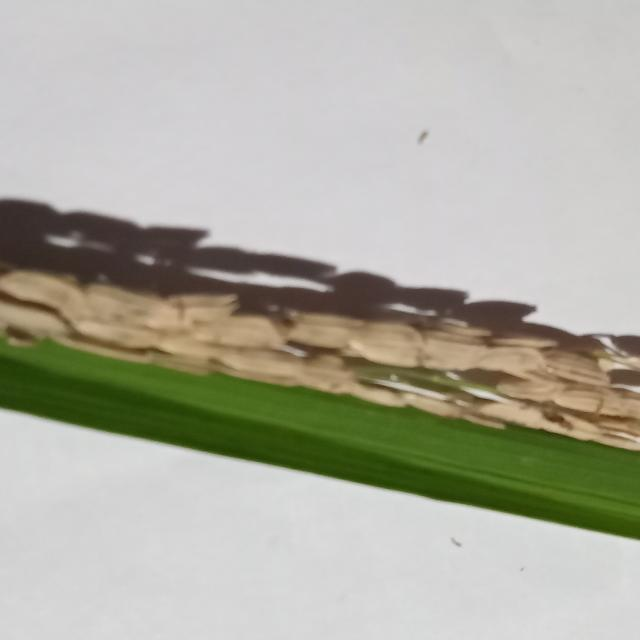Neck_Blast: (0, 281, 640, 455)
